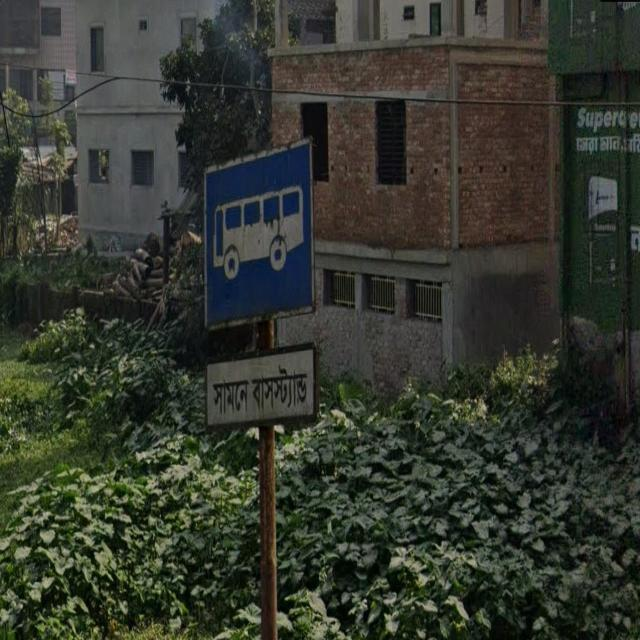Ahead-the-bus-station: (187, 137, 344, 452)
